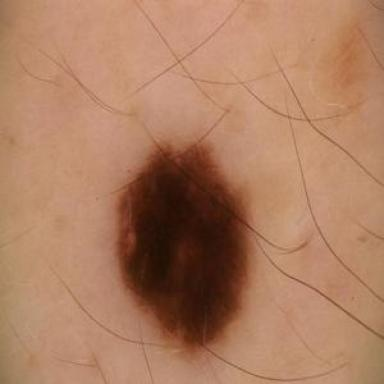Melanoma: (118, 144, 247, 353)
